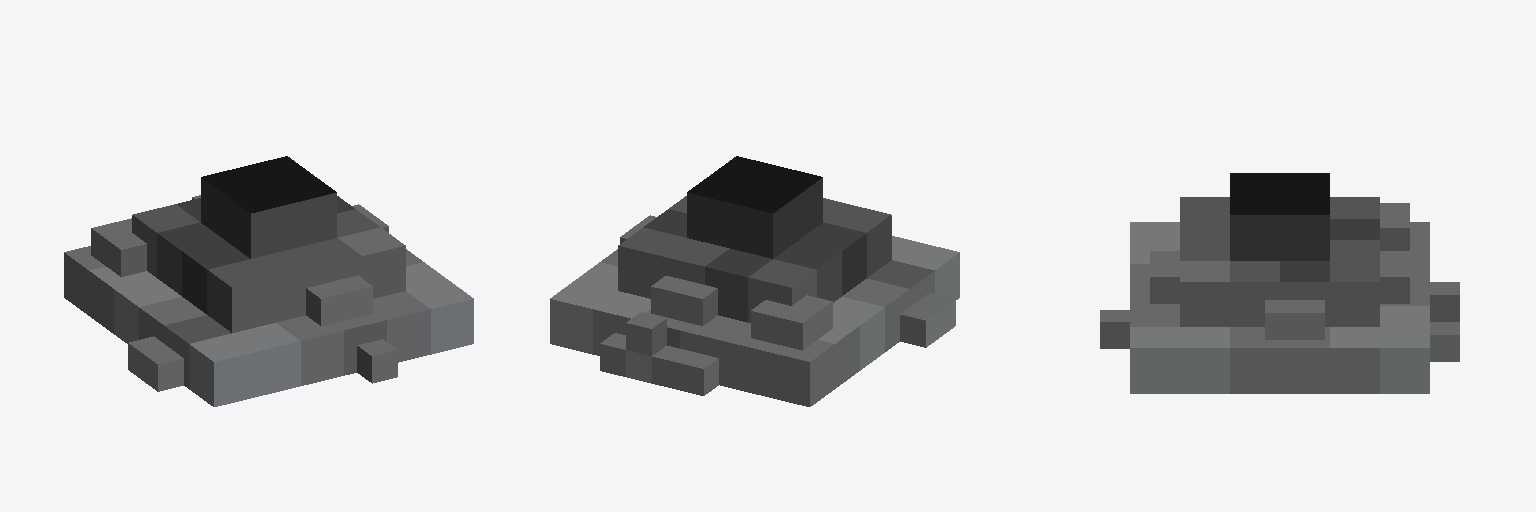
3 views of the same model, side by side, from view 1: azimuth 30°, elevation 25°; view 2: azimuth 150°, elevation 25°; view 3: azimuth 270°, elevation 25° (orthographic).
Visible parts, largest first — view 1: cube; view 2: cube; view 3: cube.
Boxes of the visible parts, x1,y1,x2,y2 form: cube: [64, 156, 473, 406]; cube: [550, 156, 959, 406]; cube: [1100, 173, 1459, 393].
Size of the model in its own units: 0.4125 by 0.1875 by 0.45.
1 materials, 1 textured.